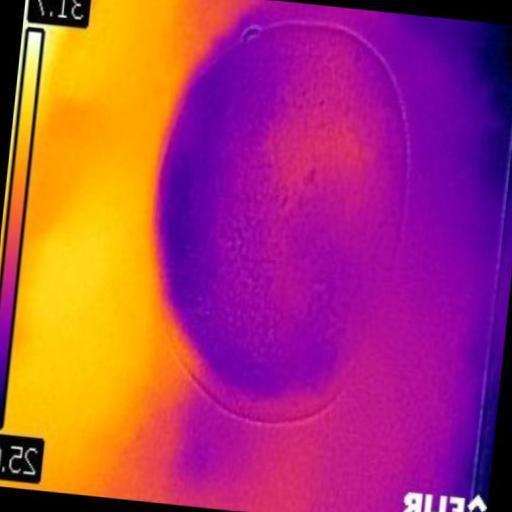alphanso: (159, 22, 408, 418)
